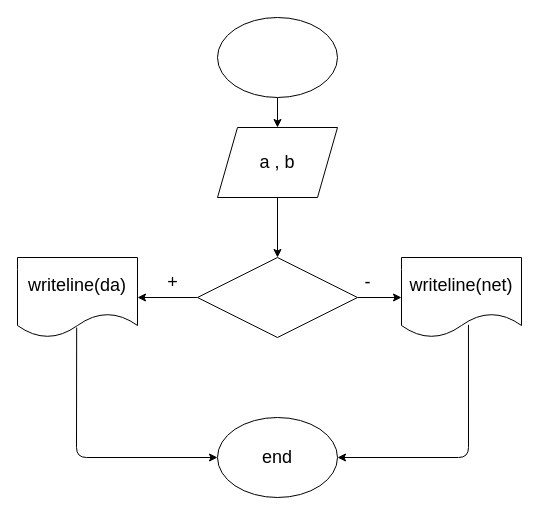
Image size: 539x515. Some labels were removed from this diagram. Here are the shapes that lost their labels. From the top down, the box of each, then its label:
(216, 16, 338, 98): start
(196, 256, 358, 338): if a == b*b
